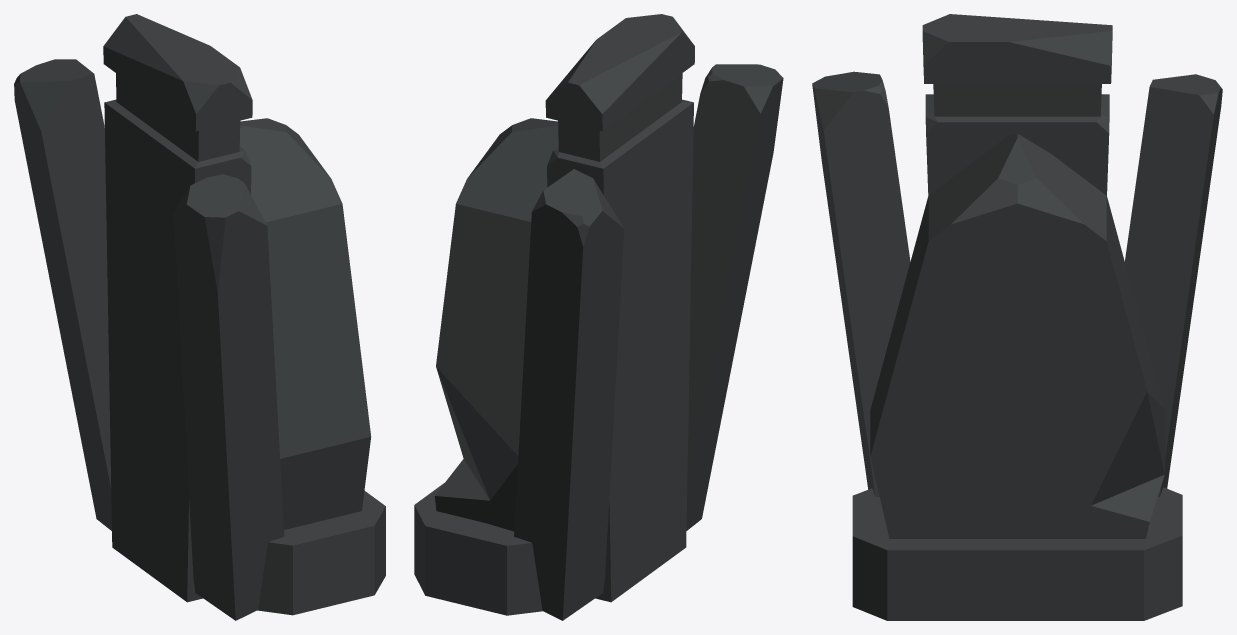
File: gravestone8.fbx
The picture shows the model from 3 angles, left to right: view 1: azimuth 30°, elevation 25°; view 2: azimuth 150°, elevation 25°; view 3: azimuth 270°, elevation 25°; orthographic projection.
Visible parts, largest first — view 1: gravestone8; view 2: gravestone8; view 3: gravestone8.
Part boxes in pixels (x1,y1,x2,y2): gravestone8: (14, 14, 385, 620); gravestone8: (414, 14, 783, 620); gravestone8: (812, 14, 1222, 620).
Size of the model in its own units: 1.33 by 3.05 by 2.16.
